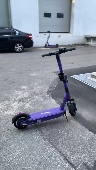beam: (11, 48, 81, 130), (43, 29, 59, 48)
